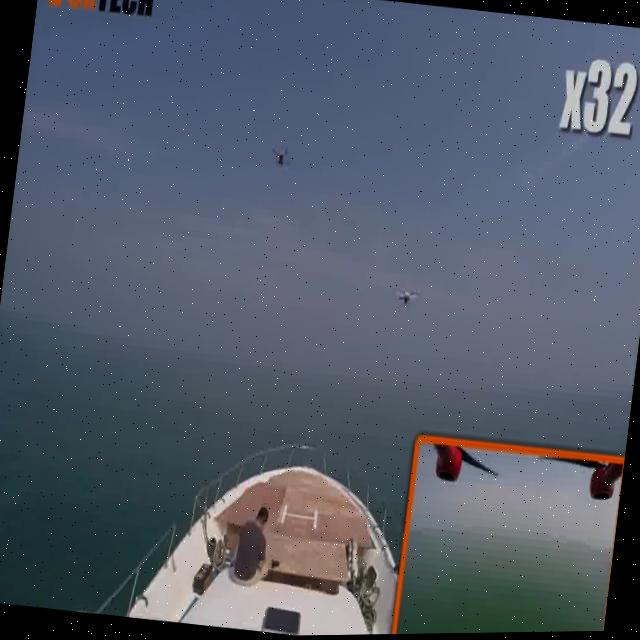drone: (254, 131, 300, 182), (389, 279, 422, 320)
